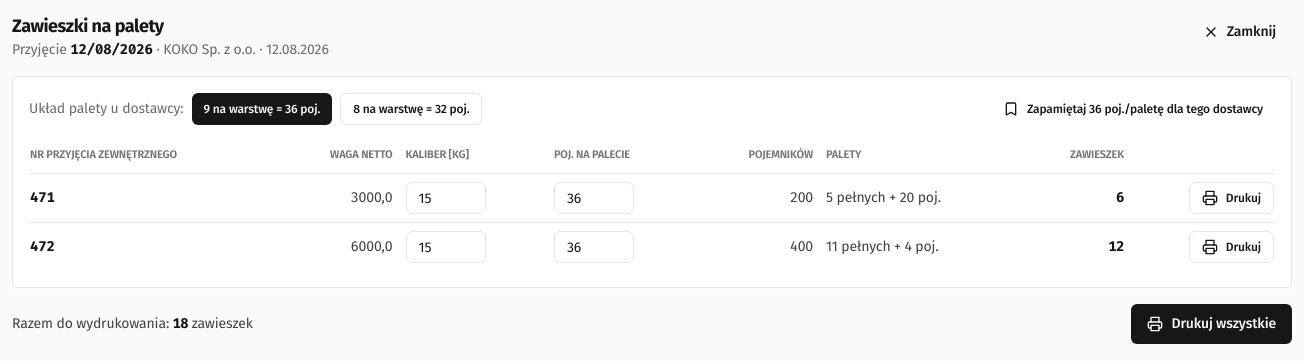
it: ReceptionTags — ile zawieszek na dostawę › preset układa całą dostawę tak samo jednym kliknięciem
Click the button with aria-label "Układ 8 na warstwę" at (411, 109), box 340,93 -> 482,125
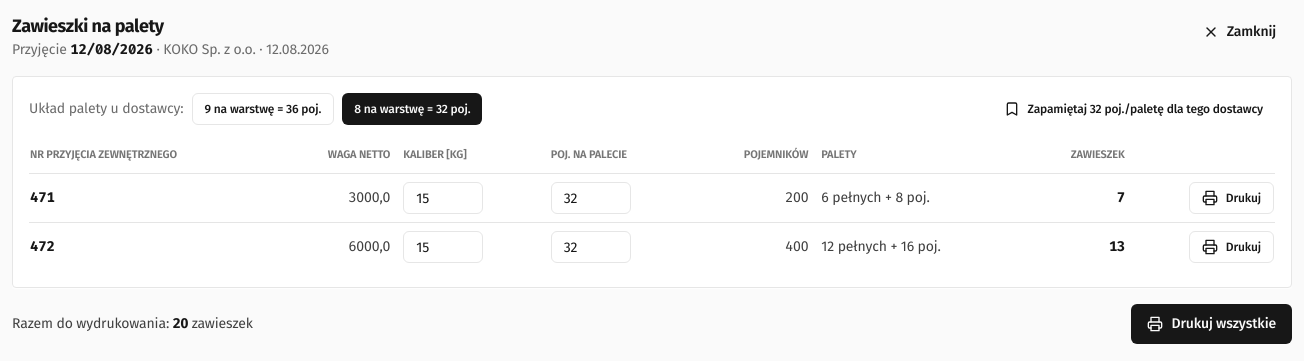
Now the cell named "Zawieszek 471" reads "7", box 1117,189 -> 1125,206
Now the cell named "Zawieszek 472" reads "13", box 1109,238 -> 1125,255
